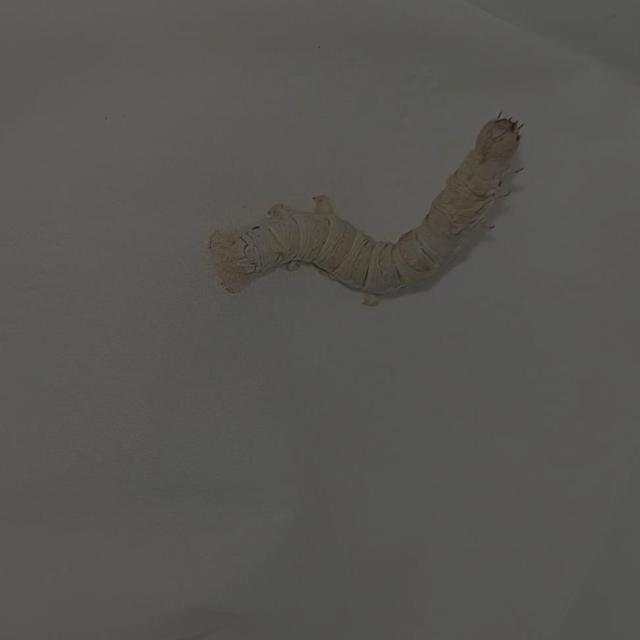Healthy: (161, 92, 555, 362)
